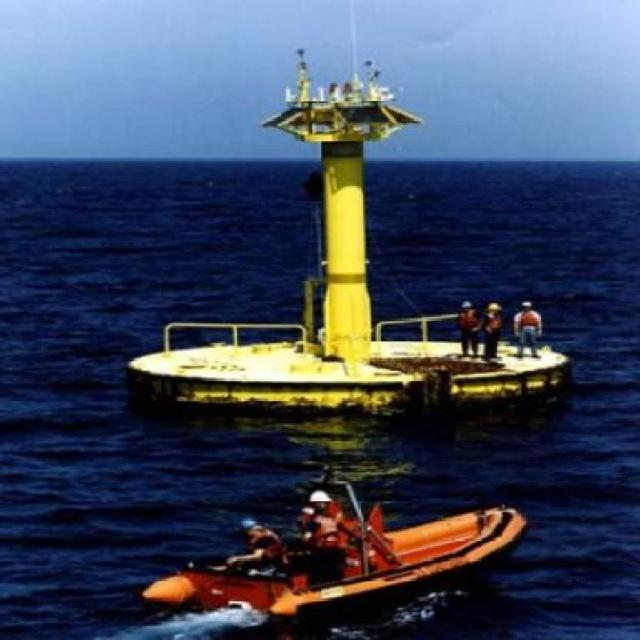buoy: (108, 10, 586, 418)
